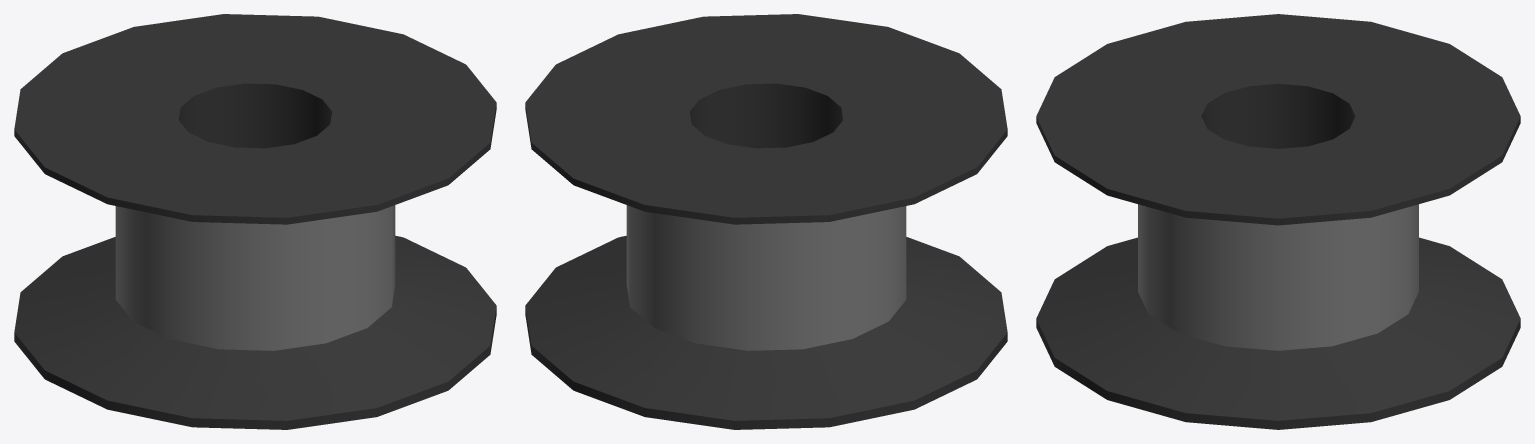
The model's file is reel.fbx.
The picture shows the model from 3 angles, left to right: view 1: azimuth 30°, elevation 25°; view 2: azimuth 150°, elevation 25°; view 3: azimuth 270°, elevation 25°; orthographic projection.
Parts seen in each view (by area): view 1: SM_Reel_01; view 2: SM_Reel_01; view 3: SM_Reel_01.
Boxes of the visible parts, x1=… form: SM_Reel_01: x1=14, y1=14, x2=496, y2=429; SM_Reel_01: x1=525, y1=14, x2=1007, y2=429; SM_Reel_01: x1=1036, y1=14, x2=1520, y2=429.
Size of the model in its own units: 162 by 77.89 by 162.
